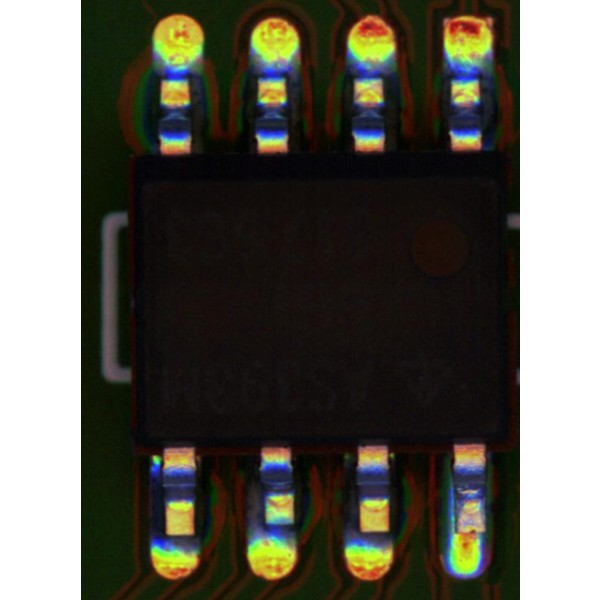Bad_podu: (459, 514, 479, 551)
